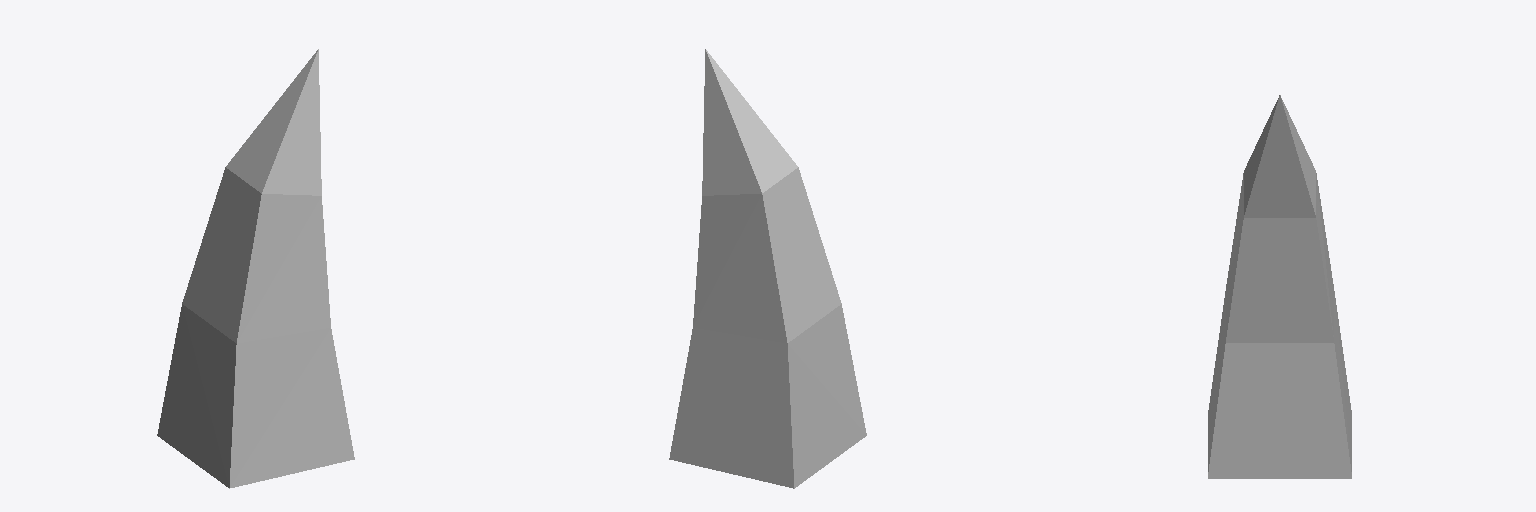
The model's file is skeletal_000037.obj.
The picture shows the model from 3 angles: view 1: azimuth 30°, elevation 25°; view 2: azimuth 150°, elevation 25°; view 3: azimuth 270°, elevation 25°; orthographic projection.
Visible parts, largest first — view 1: Cube; view 2: Cube; view 3: Cube.
Part boxes in pixels (x1,y1,x2,y2): Cube: (157, 49, 354, 488); Cube: (669, 49, 866, 488); Cube: (1208, 95, 1351, 478).
Bounding box in the file's own units: 2 × 5.86 × 2.